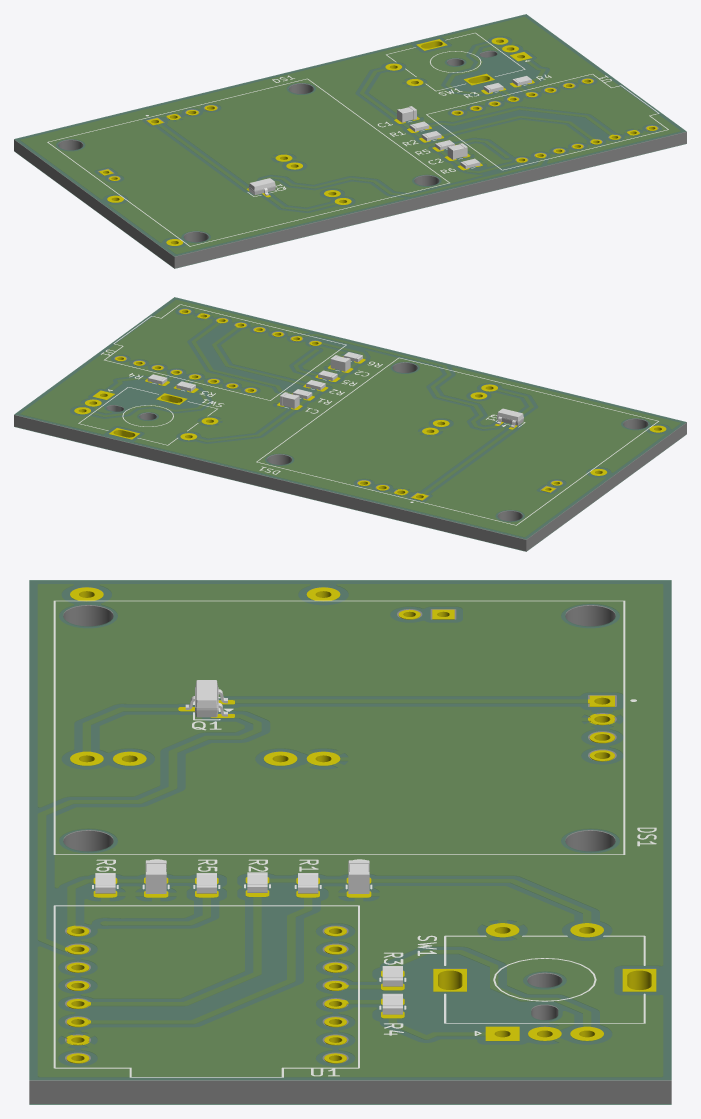
File: HArem.glb
3 renders of one model, top to bottom at view 1: azimuth 30°, elevation 25°; view 2: azimuth 150°, elevation 25°; view 3: azimuth 270°, elevation 25°, orthographic. The views are drawn at different scales.
Visible parts, largest first — view 1: =>[0:1:1:8], =>[0:1:1:5], =>[0:1:1:10], =>[0:1:1:6], =>[0:1:1:9]; view 2: =>[0:1:1:8], =>[0:1:1:5], =>[0:1:1:10], =>[0:1:1:6], =>[0:1:1:9]; view 3: =>[0:1:1:8], =>[0:1:1:5], =>[0:1:1:10], =>[0:1:1:6], Q1.
Boxes of the visible parts, <box> form: =>[0:1:1:8]: <box>14,14,686,256</box>; =>[0:1:1:5]: <box>21,17,679,253</box>; =>[0:1:1:10]: <box>14,15,686,268</box>; =>[0:1:1:6]: <box>47,32,668,246</box>; =>[0:1:1:9]: <box>14,143,686,268</box>; =>[0:1:1:8]: <box>14,297,686,539</box>; =>[0:1:1:5]: <box>21,300,679,536</box>; =>[0:1:1:10]: <box>14,298,686,551</box>; =>[0:1:1:6]: <box>78,304,658,525</box>; =>[0:1:1:9]: <box>14,426,686,551</box>; =>[0:1:1:8]: <box>29,580,671,1080</box>; =>[0:1:1:5]: <box>38,584,662,1076</box>; =>[0:1:1:10]: <box>29,581,671,1103</box>; =>[0:1:1:6]: <box>53,600,656,1077</box>; Q1: <box>185,680,227,717</box>.
Bounding box in the file's own units: 0.07 × 0.00292 × 0.038.
